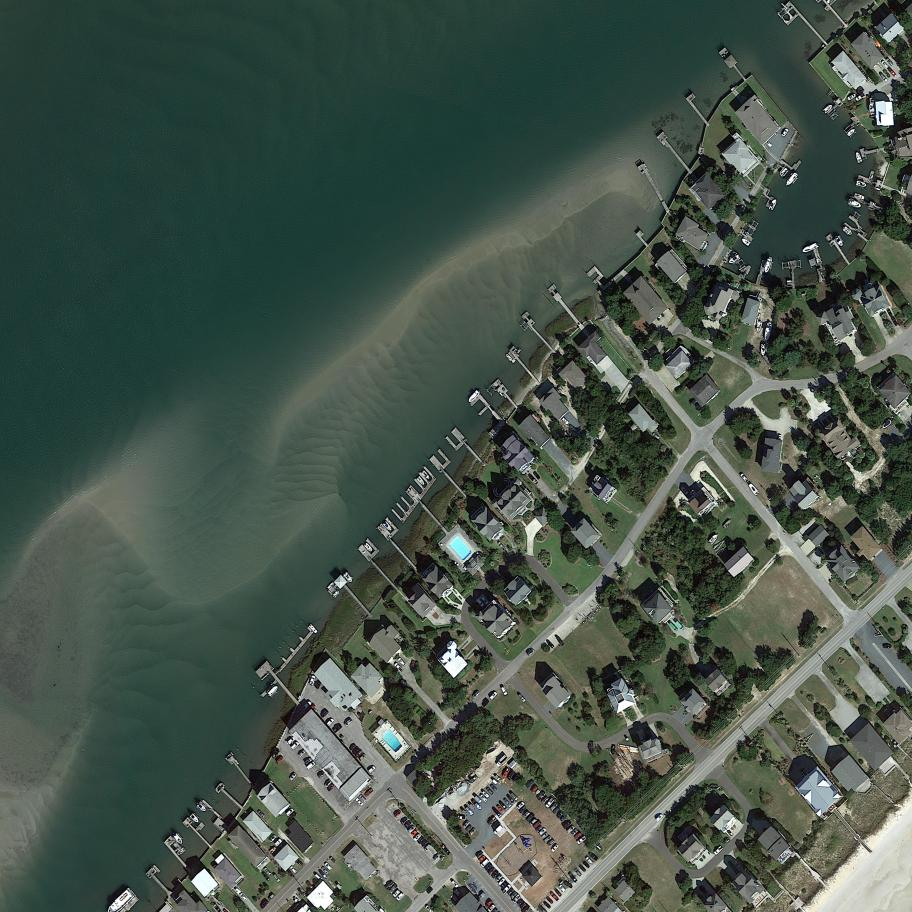large-vehicle: (495, 754, 509, 768)
ship: (801, 242, 820, 254), (785, 172, 799, 187), (763, 322, 772, 343), (468, 390, 481, 404), (763, 256, 773, 273), (747, 483, 760, 496), (342, 571, 355, 584), (728, 253, 742, 265), (881, 418, 893, 430), (267, 685, 279, 697), (707, 533, 719, 545), (842, 225, 854, 237), (173, 832, 184, 845), (854, 150, 864, 164), (848, 200, 863, 209), (189, 813, 201, 824), (196, 802, 208, 813), (768, 198, 778, 211), (822, 103, 833, 114), (383, 521, 394, 532), (308, 623, 319, 634), (834, 235, 844, 247), (176, 847, 187, 857), (740, 237, 751, 247), (364, 542, 374, 553), (855, 180, 867, 189), (846, 127, 856, 137), (421, 470, 431, 480), (416, 476, 426, 486), (853, 192, 865, 200), (756, 320, 763, 333), (760, 344, 765, 357)
small-vehicle: (439, 843, 452, 857), (568, 872, 579, 885), (668, 621, 679, 633), (562, 880, 575, 890), (384, 880, 395, 891), (511, 893, 522, 904), (332, 723, 343, 734), (363, 787, 374, 798), (528, 474, 539, 485), (739, 473, 750, 484), (713, 845, 724, 856), (550, 891, 560, 903), (395, 891, 406, 901), (394, 662, 404, 673), (397, 657, 407, 668), (261, 871, 271, 882), (302, 701, 313, 711), (588, 852, 599, 862), (502, 884, 513, 894), (525, 779, 536, 789), (285, 736, 296, 746), (553, 887, 563, 898), (545, 797, 555, 808), (493, 825, 504, 835), (492, 807, 502, 818), (489, 690, 499, 701), (675, 620, 685, 631), (732, 858, 742, 869), (890, 315, 899, 327), (502, 767, 511, 779), (260, 900, 270, 910), (388, 884, 398, 894), (324, 862, 334, 872), (285, 807, 295, 817), (320, 709, 330, 719), (413, 832, 423, 842), (542, 900, 552, 910), (480, 858, 490, 868), (354, 749, 364, 759), (355, 797, 365, 807), (306, 761, 316, 771), (290, 741, 300, 751), (288, 772, 298, 782), (492, 820, 502, 830), (536, 791, 546, 801), (487, 817, 497, 827), (655, 813, 665, 823), (273, 838, 283, 848), (263, 866, 272, 877), (271, 749, 280, 760), (392, 889, 402, 898), (239, 892, 248, 902), (305, 880, 314, 890), (318, 869, 327, 879), (289, 865, 298, 875), (257, 810, 267, 819), (558, 884, 567, 894), (578, 863, 587, 873), (367, 765, 377, 774), (358, 794, 368, 803), (326, 783, 336, 792), (275, 755, 284, 765), (496, 805, 506, 814), (465, 806, 474, 816), (577, 836, 587, 845), (425, 884, 434, 894), (855, 93, 865, 102), (497, 541, 506, 551), (562, 820, 572, 829), (532, 820, 542, 829), (538, 827, 547, 837), (518, 693, 527, 703), (295, 859, 305, 868), (273, 873, 281, 884), (309, 675, 317, 686), (556, 636, 564, 647), (417, 836, 426, 845), (420, 839, 429, 848), (423, 843, 432, 852), (321, 866, 330, 875), (268, 834, 277, 843), (407, 825, 416, 834), (582, 860, 591, 869), (485, 899, 494, 908), (497, 877, 506, 886), (404, 820, 413, 829), (491, 870, 500, 879), (484, 862, 493, 871), (478, 855, 487, 864), (394, 809, 403, 818), (400, 816, 409, 825), (344, 718, 353, 727), (348, 743, 357, 752), (351, 746, 360, 755), (304, 757, 313, 766), (566, 825, 575, 834), (549, 802, 558, 811), (516, 801, 525, 810), (541, 796, 550, 805), (510, 792, 519, 801), (499, 801, 508, 810), (462, 820, 471, 829), (474, 795, 483, 804), (689, 398, 698, 407), (546, 640, 555, 649), (555, 810, 564, 819), (529, 817, 538, 826), (486, 787, 495, 796), (561, 417, 570, 426), (481, 596, 490, 605), (476, 598, 485, 607), (527, 648, 536, 657), (482, 699, 491, 708), (472, 690, 481, 699), (507, 771, 516, 780), (722, 837, 731, 846), (545, 896, 554, 905), (451, 879, 459, 889), (574, 867, 582, 877), (314, 679, 322, 689), (781, 128, 789, 138), (880, 72, 888, 82), (501, 686, 509, 696), (433, 853, 441, 862), (410, 829, 419, 837), (500, 881, 509, 889), (586, 856, 594, 865), (516, 898, 525, 906), (507, 887, 515, 896), (495, 873, 503, 882), (488, 866, 496, 875), (476, 850, 484, 859), (477, 892, 486, 900), (326, 718, 335, 726), (359, 753, 367, 762), (323, 779, 332, 787), (317, 771, 326, 779), (298, 749, 306, 758), (506, 794, 514, 803), (552, 806, 561, 814), (551, 844, 559, 853), (530, 786, 539, 794), (480, 794, 488, 803), (886, 58, 894, 67), (881, 60, 889, 69), (889, 70, 898, 78), (764, 140, 773, 148), (543, 835, 552, 843), (533, 471, 541, 480), (847, 94, 857, 101), (510, 891, 518, 899), (519, 806, 527, 814), (469, 828, 477, 836), (474, 802, 482, 810), (570, 828, 578, 836), (289, 811, 297, 819), (547, 839, 555, 847), (726, 829, 734, 837), (526, 814, 534, 822), (490, 784, 498, 792), (887, 308, 894, 317), (457, 815, 467, 821), (504, 798, 511, 806), (574, 832, 582, 839), (268, 894, 276, 901), (560, 814, 567, 822), (523, 811, 531, 818), (536, 826, 544, 833), (540, 833, 548, 840), (482, 791, 490, 798), (652, 433, 660, 440), (611, 744, 616, 755), (466, 825, 473, 832), (469, 803, 476, 810), (883, 644, 892, 649), (411, 660, 415, 669)
